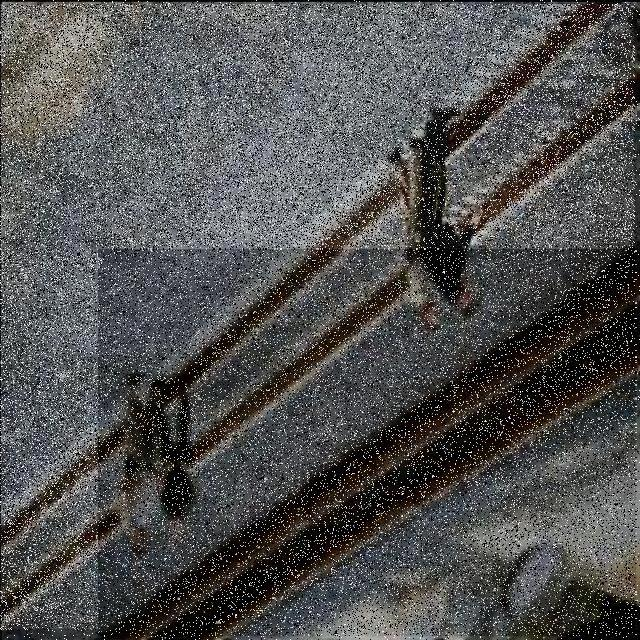rail: (2, 5, 635, 630), (99, 250, 637, 637)
